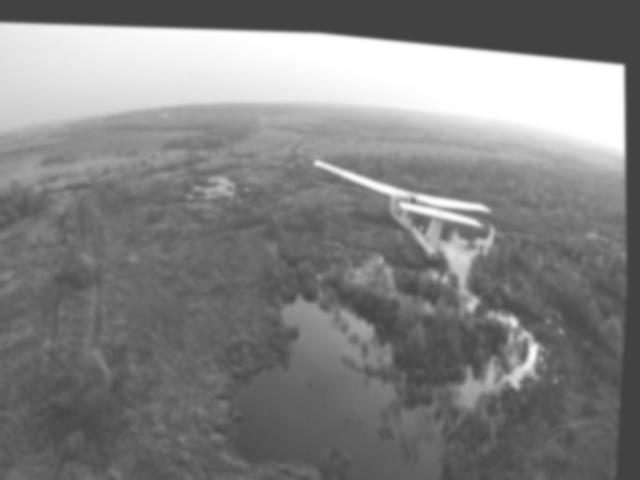hedef: (287, 126, 518, 266)
